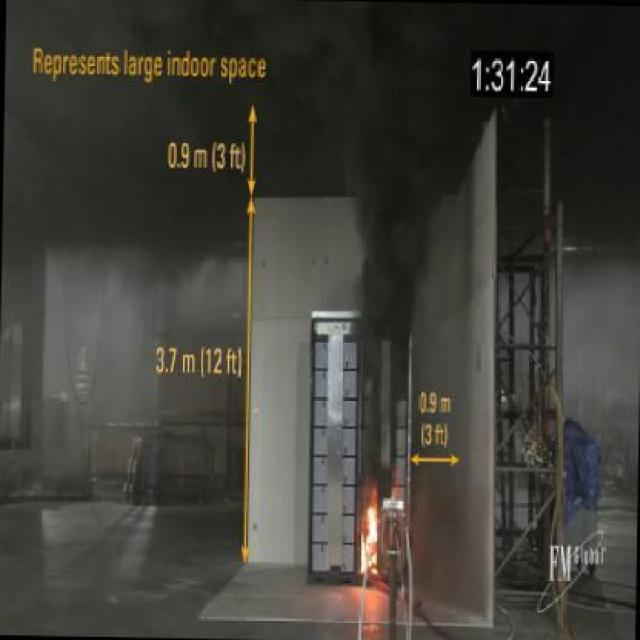fire: (332, 79, 448, 301)
smoke: (357, 482, 388, 584)
